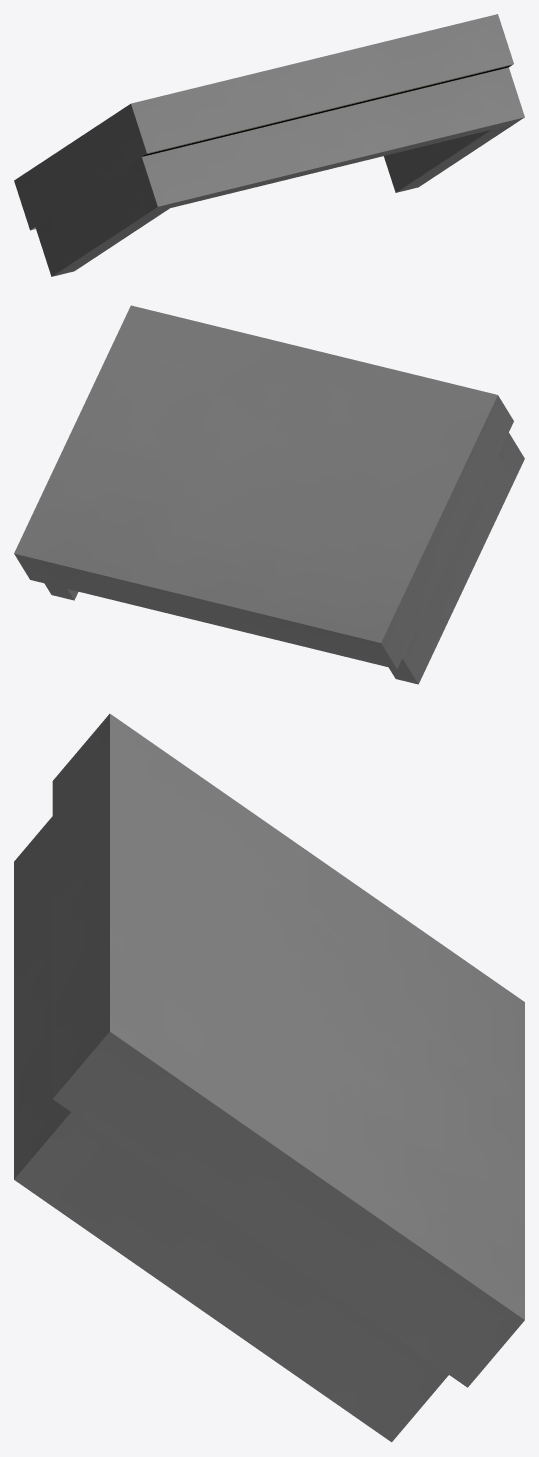
The model's file is dc_metro_arch_c8.obj.
3 views of the same model, one above another, from view 1: azimuth 30°, elevation 25°; view 2: azimuth 150°, elevation 25°; view 3: azimuth 270°, elevation 25° (orthographic). The views are drawn at different scales.
Parts seen in each view (by area): view 1: part8; view 2: part8; view 3: part8.
Boxes of the visible parts, left/top/right/bottom form: part8: left=14, top=14, right=524, bottom=276; part8: left=14, top=305, right=524, bottom=684; part8: left=14, top=714, right=524, bottom=1442.
Size of the model in its own units: 2 by 1.21 by 1.36.
Materials: 2 (2 with a texture image).
